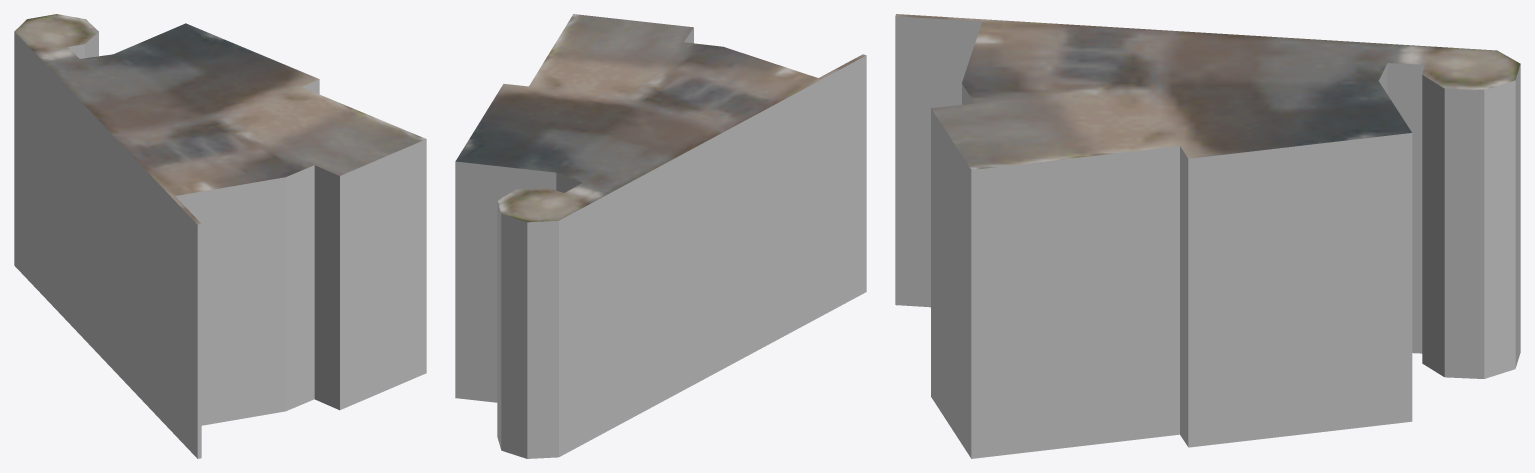
Rendered from DEBW_0010007Tvly.gltf.
The picture shows the model from 3 angles, left to right: view 1: azimuth 30°, elevation 25°; view 2: azimuth 150°, elevation 25°; view 3: azimuth 270°, elevation 25°; orthographic projection. The views are drawn at different scales.
Visible parts, largest first — view 1: Z_UP; view 2: Z_UP; view 3: Z_UP.
Boxes of the visible parts, x1,y1,x2,y2 form: Z_UP: (14, 14, 426, 458); Z_UP: (455, 14, 866, 458); Z_UP: (895, 14, 1520, 458).
Size of the model in its own units: 11.56 by 9.97 by 19.56.
Materials: 2 (1 with a texture image).
